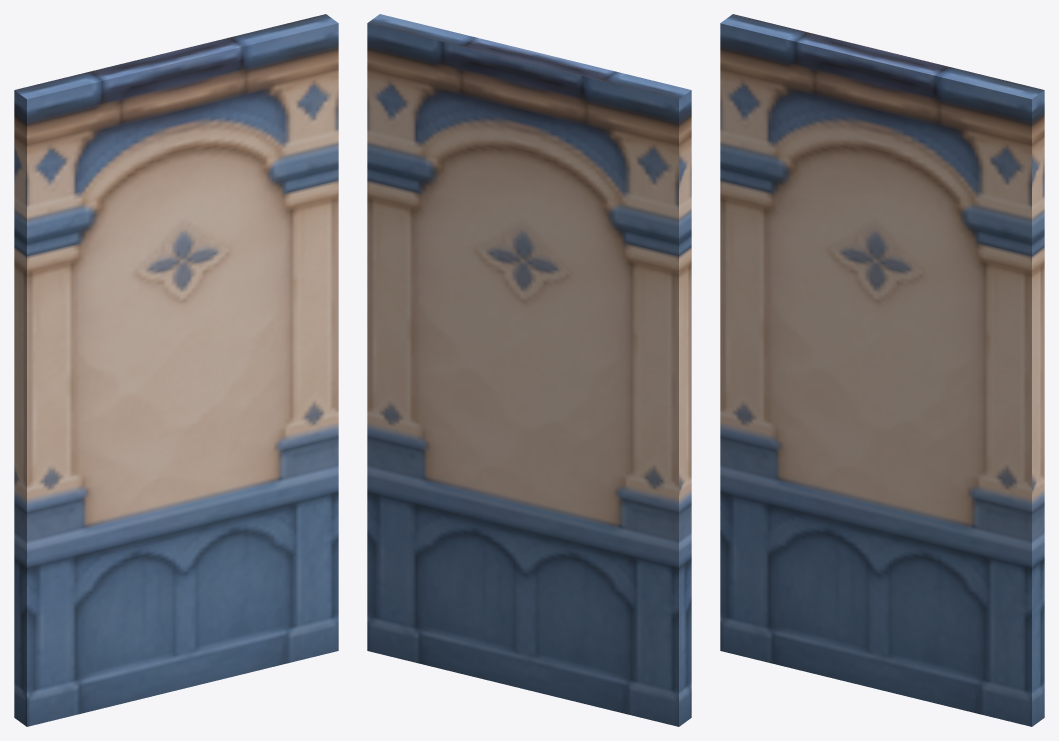
File: Door_Panel_C.fbx
3 views of the same model, side by side, from view 1: azimuth 30°, elevation 25°; view 2: azimuth 150°, elevation 25°; view 3: azimuth 330°, elevation 25° (orthographic).
Parts seen in each view (by area): view 1: Door_Panel_C; view 2: Door_Panel_C; view 3: Door_Panel_C.
Part boxes in pixels (<box>): Door_Panel_C: <box>14,14,338,726</box>; Door_Panel_C: <box>367,14,691,726</box>; Door_Panel_C: <box>720,14,1044,726</box>.
Size of the model in its own units: 1.01 by 1.95 by 0.0717.
1 material, 1 textured.
